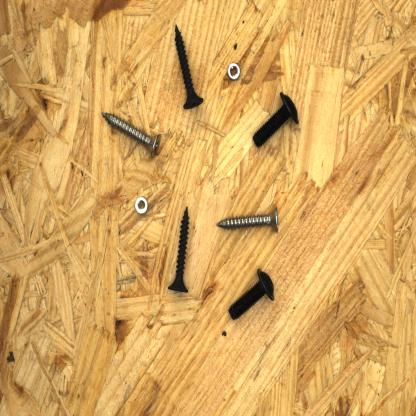screw: (100, 108, 166, 165), (250, 84, 302, 150), (172, 20, 206, 113), (227, 264, 278, 324), (166, 204, 193, 294), (214, 203, 281, 239)
